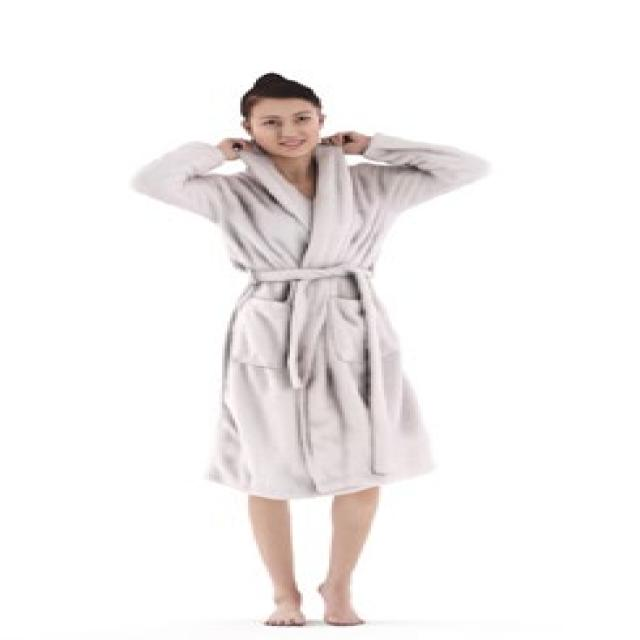standing: (127, 66, 496, 627)
